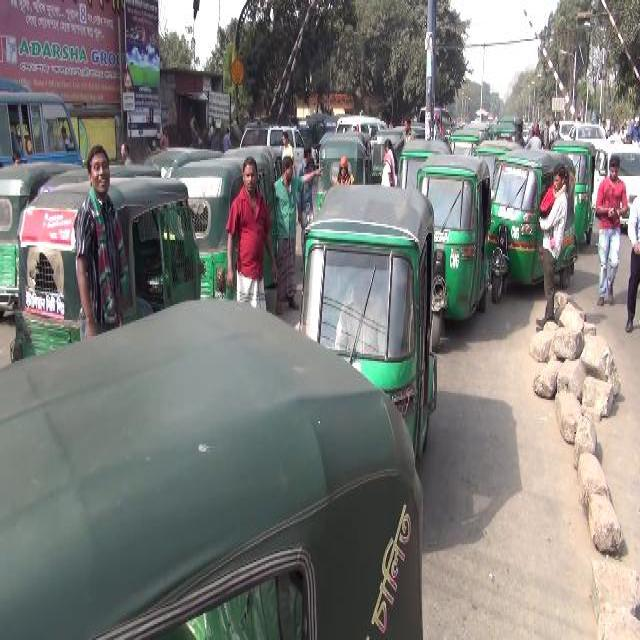bus: (0, 68, 82, 177)
car: (595, 134, 639, 228), (567, 120, 609, 154)
rickshaw: (186, 109, 204, 147), (228, 109, 242, 147)
suv: (242, 119, 308, 176)
three wheelers -CNG-: (1, 289, 425, 639), (300, 175, 436, 461), (15, 173, 203, 350), (489, 148, 575, 306), (176, 159, 264, 303), (414, 150, 486, 323), (0, 160, 77, 315), (222, 137, 292, 268), (552, 137, 598, 254), (317, 126, 371, 215), (399, 133, 453, 195), (140, 140, 222, 180), (372, 124, 398, 175), (478, 134, 514, 164), (449, 126, 476, 156), (494, 120, 514, 147), (316, 113, 334, 132)
van: (336, 110, 388, 140), (418, 101, 456, 127)
